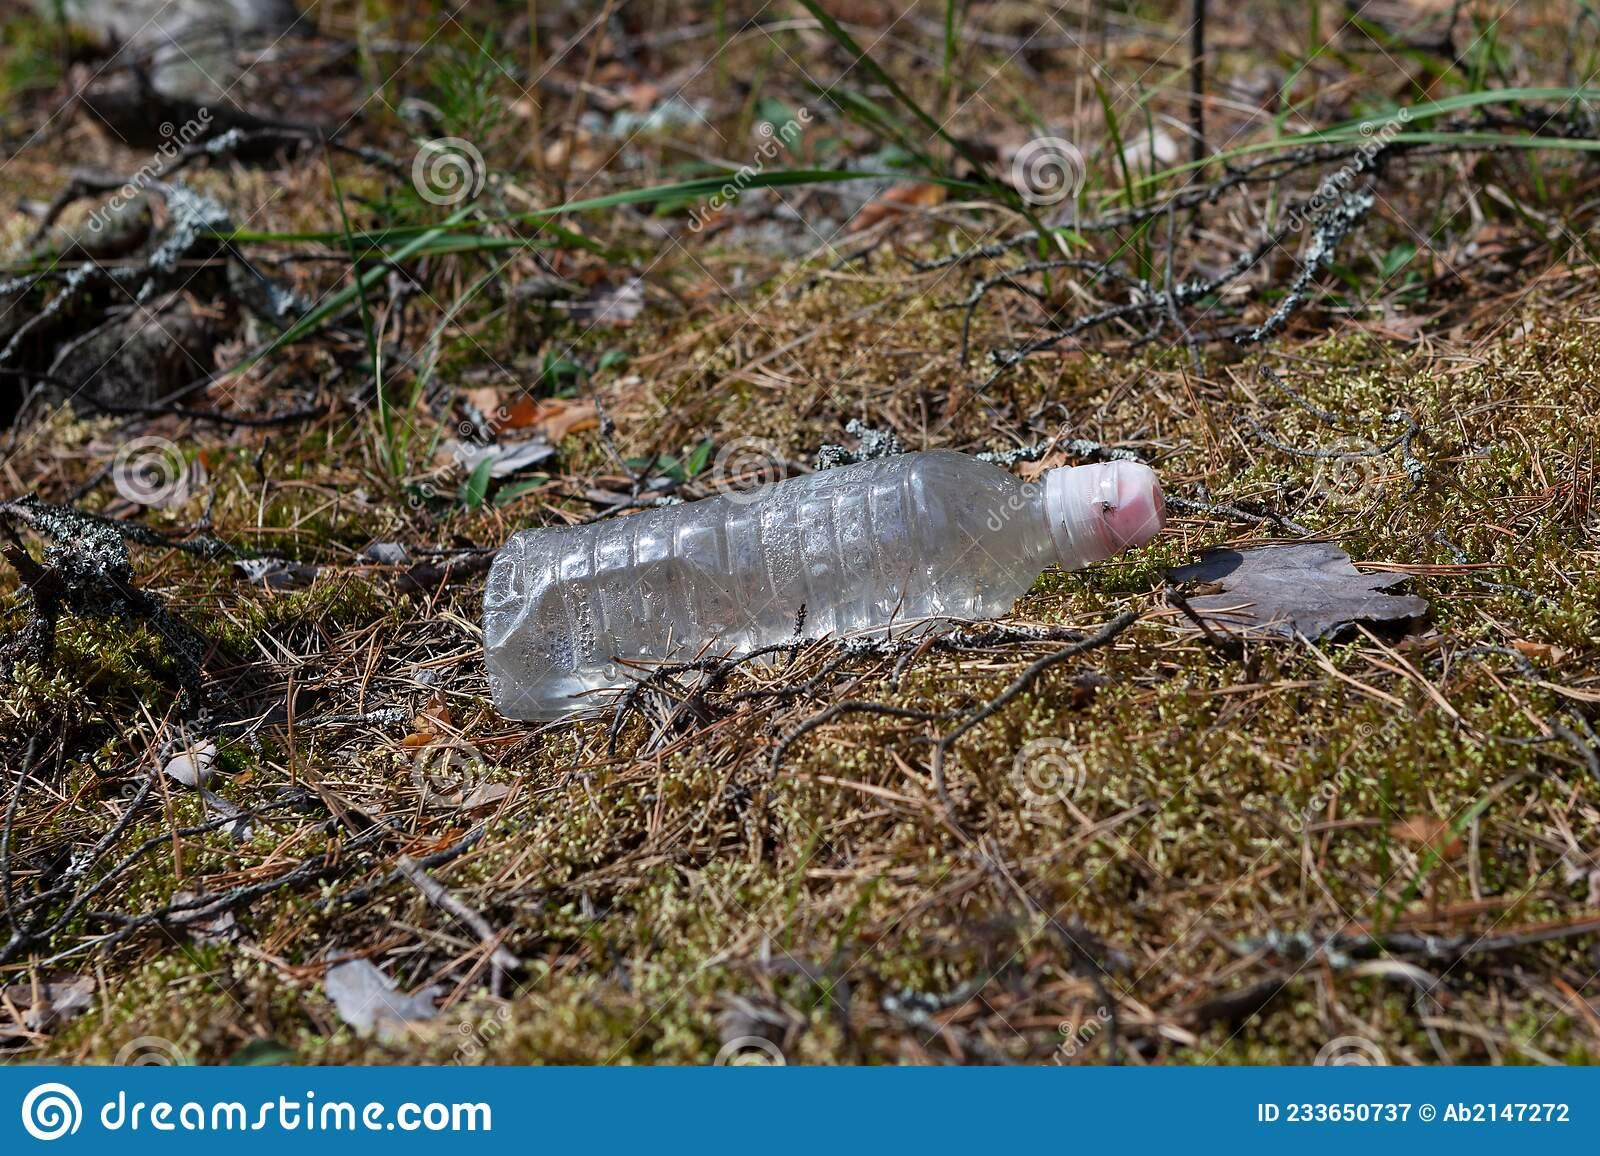bottle: (461, 407, 1194, 760)
